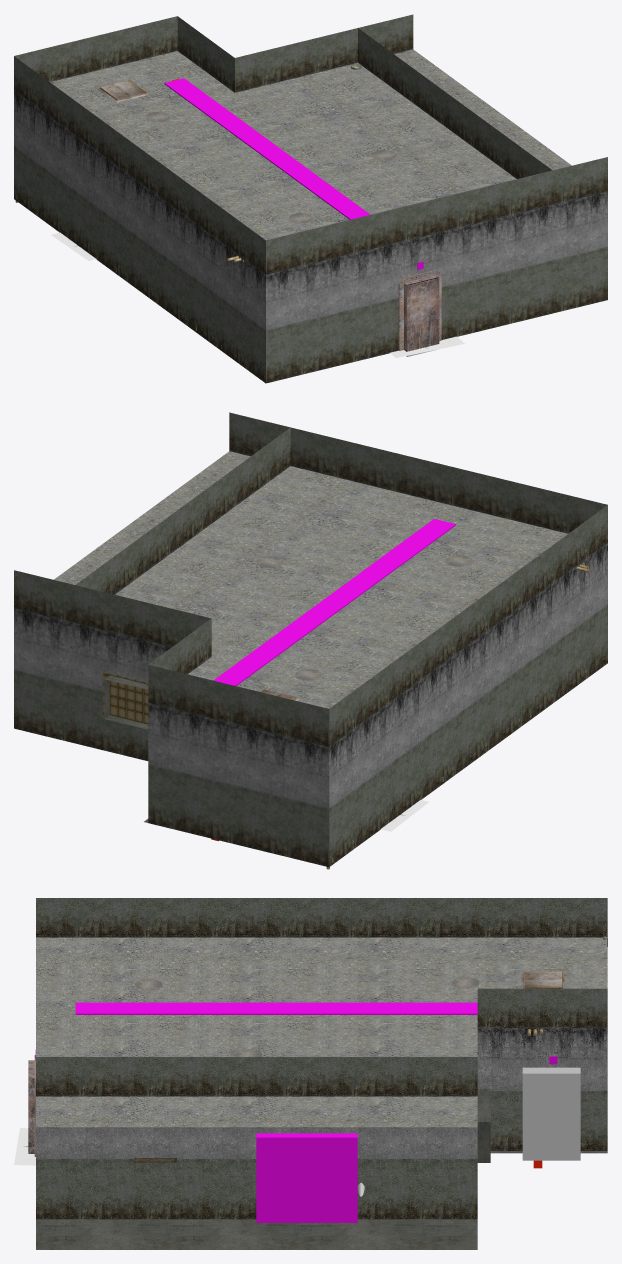
The model's file is level01_02_entrance.dae.
The picture shows the model from 3 angles, top to bottom: view 1: azimuth 30°, elevation 25°; view 2: azimuth 150°, elevation 25°; view 3: azimuth 270°, elevation 25°; orthographic projection. The views are drawn at different scales.
Parts seen in each view (by area): view 1: polySurface122_noshadow, polySurface146_noshadow, polySurface147_noshadow, polySurface121_noshadow, polySurface138, polySurface104_noshadow, _area_script_pipesarea1, door1, polySurface144, frame, _area_script_vent1; view 2: polySurface146_noshadow, polySurface147_noshadow, polySurface104_noshadow, polySurface138, polySurface122_noshadow, polySurface121_noshadow, _area_script_pipesarea1, polySurface144, polySurface143_noshadow; view 3: polySurface146_noshadow, polySurface121_noshadow, polySurface147_noshadow, polySurface144, polySurface148_noshadow, _area_script_tutinteract, _area_script_door01area, _area_script_pipesarea1, _area_script_vent1, door1, polySurface142_noshadow, moist04_nocollide_noshadow (+1 smaller).
Part boxes in pixels (x1,y1,x2,y2): polySurface122_noshadow: [266, 157, 607, 383]; polySurface146_noshadow: [50, 49, 571, 240]; polySurface147_noshadow: [14, 56, 265, 383]; polySurface121_noshadow: [358, 28, 552, 178]; polySurface138: [235, 14, 413, 92]; polySurface104_noshadow: [14, 16, 177, 81]; _area_script_pipesarea1: [164, 78, 370, 219]; door1: [404, 275, 439, 351]; polySurface144: [177, 16, 234, 92]; frame: [398, 270, 441, 350]; _area_script_vent1: [100, 80, 146, 100]; polySurface146_noshadow: [54, 451, 567, 708]; polySurface147_noshadow: [329, 505, 607, 866]; polySurface104_noshadow: [148, 665, 329, 866]; polySurface138: [14, 570, 210, 760]; polySurface122_noshadow: [229, 412, 607, 533]; polySurface121_noshadow: [76, 427, 290, 594]; _area_script_pipesarea1: [213, 519, 455, 685]; polySurface144: [148, 618, 211, 674]; polySurface143_noshadow: [103, 672, 148, 724]; polySurface146_noshadow: [36, 937, 607, 1127]; polySurface121_noshadow: [36, 1057, 477, 1219]; polySurface147_noshadow: [36, 898, 607, 937]; polySurface144: [477, 988, 607, 1150]; polySurface148_noshadow: [36, 1151, 607, 1249]; _area_script_tutinteract: [256, 1133, 357, 1222]; _area_script_door01area: [522, 1067, 580, 1160]; _area_script_pipesarea1: [75, 1002, 477, 1014]; _area_script_vent1: [523, 971, 562, 988]; door1: [28, 1060, 34, 1153]; polySurface142_noshadow: [477, 1122, 490, 1162]; moist04_nocollide_noshadow: [14, 1128, 35, 1165].
Size of what is drawn, in the model's own units: 10.85 by 6.1 by 13.93.
